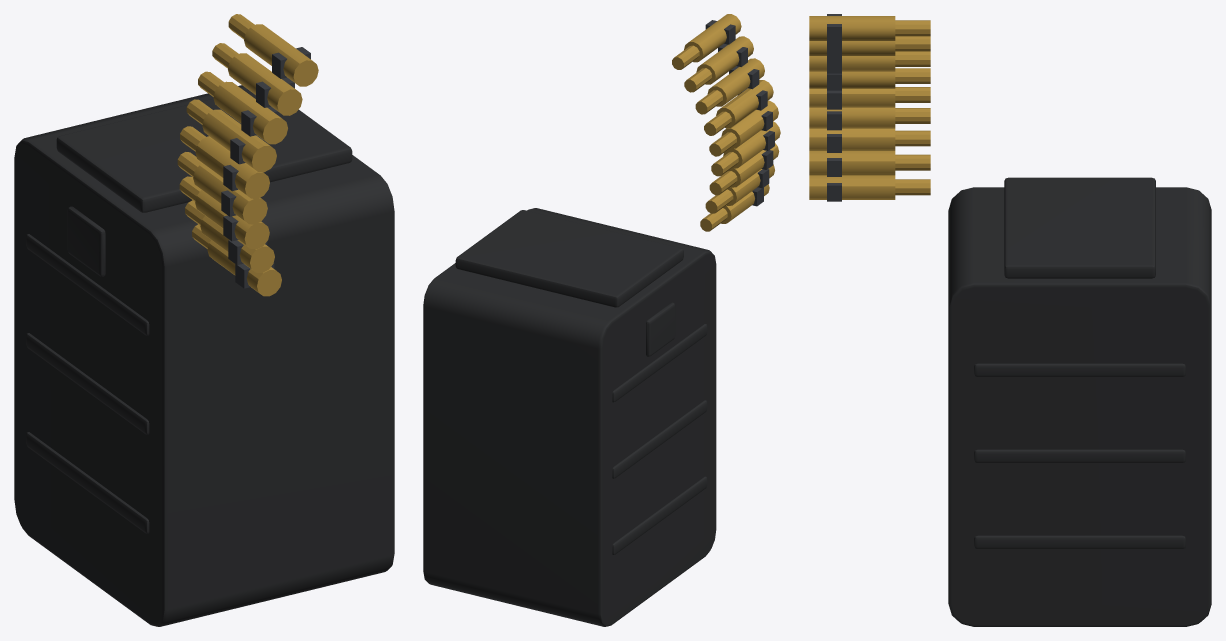
Rendered from mod_rampart_box_200.glb.
3 views of the same model, side by side, from view 1: azimuth 30°, elevation 25°; view 2: azimuth 150°, elevation 25°; view 3: azimuth 270°, elevation 25° (orthographic). The views are drawn at different scales.
Parts seen in each view (by area): view 1: AmmoBox, AmmoBoxBelt; view 2: AmmoBox, AmmoBoxBelt; view 3: AmmoBox, AmmoBoxBelt.
Part boxes in pixels (left/top/right/bottom): AmmoBox: left=14, top=85, right=394, bottom=626; AmmoBoxBelt: left=177, top=14, right=318, bottom=296; AmmoBox: left=423, top=208, right=716, bottom=626; AmmoBoxBelt: left=672, top=14, right=780, bottom=231; AmmoBox: left=948, top=177, right=1211, bottom=626; AmmoBoxBelt: left=809, top=14, right=930, bottom=201.
Size of the model in its own units: 0.0952 by 0.235 by 0.159.
